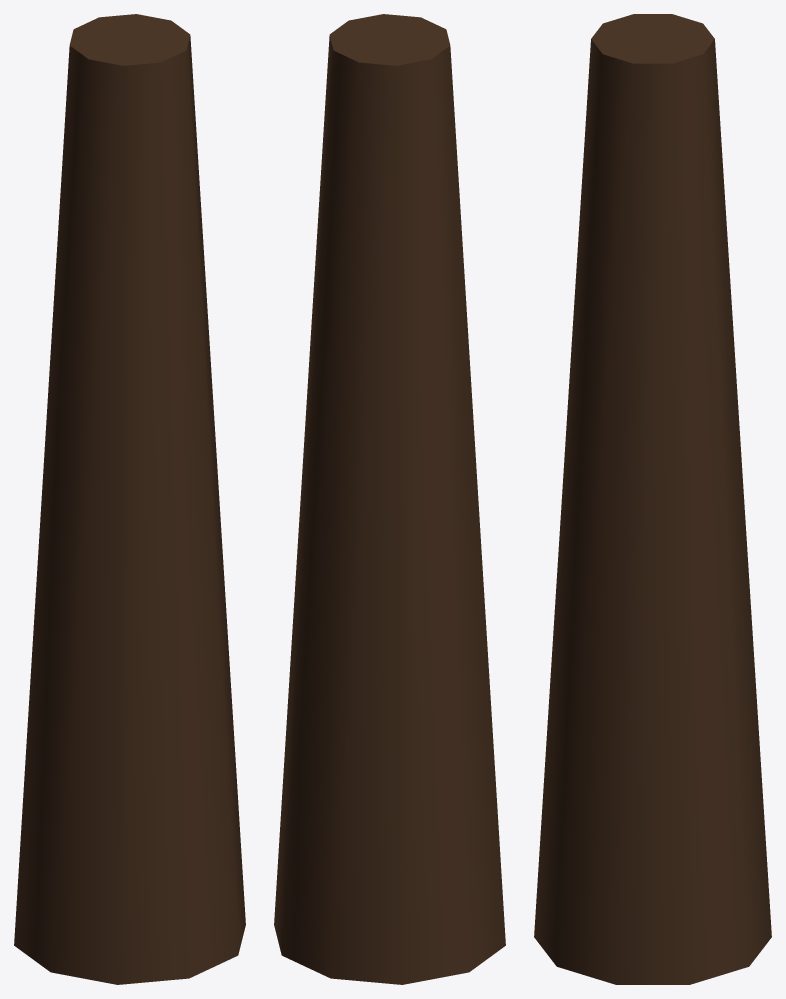
The model's file is tunnel-root-3.glb.
The picture shows the model from 3 angles, left to right: view 1: azimuth 30°, elevation 25°; view 2: azimuth 150°, elevation 25°; view 3: azimuth 270°, elevation 25°; orthographic projection.
Visible parts, largest first — view 1: Tunnel Root 3; view 2: Tunnel Root 3; view 3: Tunnel Root 3.
Boxes of the visible parts, x1,y1,x2,y2 form: Tunnel Root 3: (14,14,245,984); Tunnel Root 3: (274,14,505,984); Tunnel Root 3: (534,14,771,984).
Size of the model in its own units: 6.29 by 27.54 by 6.61.
